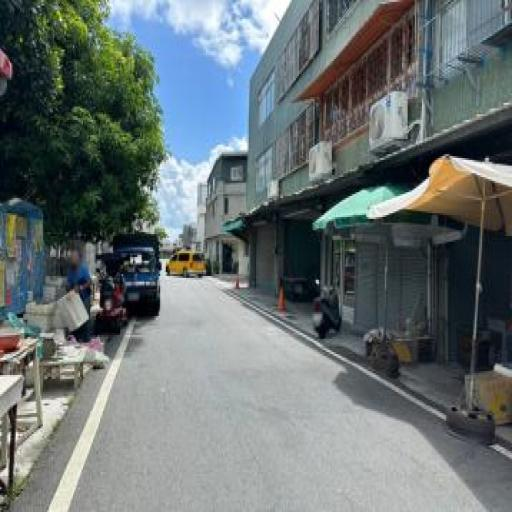car: (104, 222, 170, 329), (164, 238, 214, 283)
whiteline: (225, 289, 512, 473), (43, 314, 141, 503)
